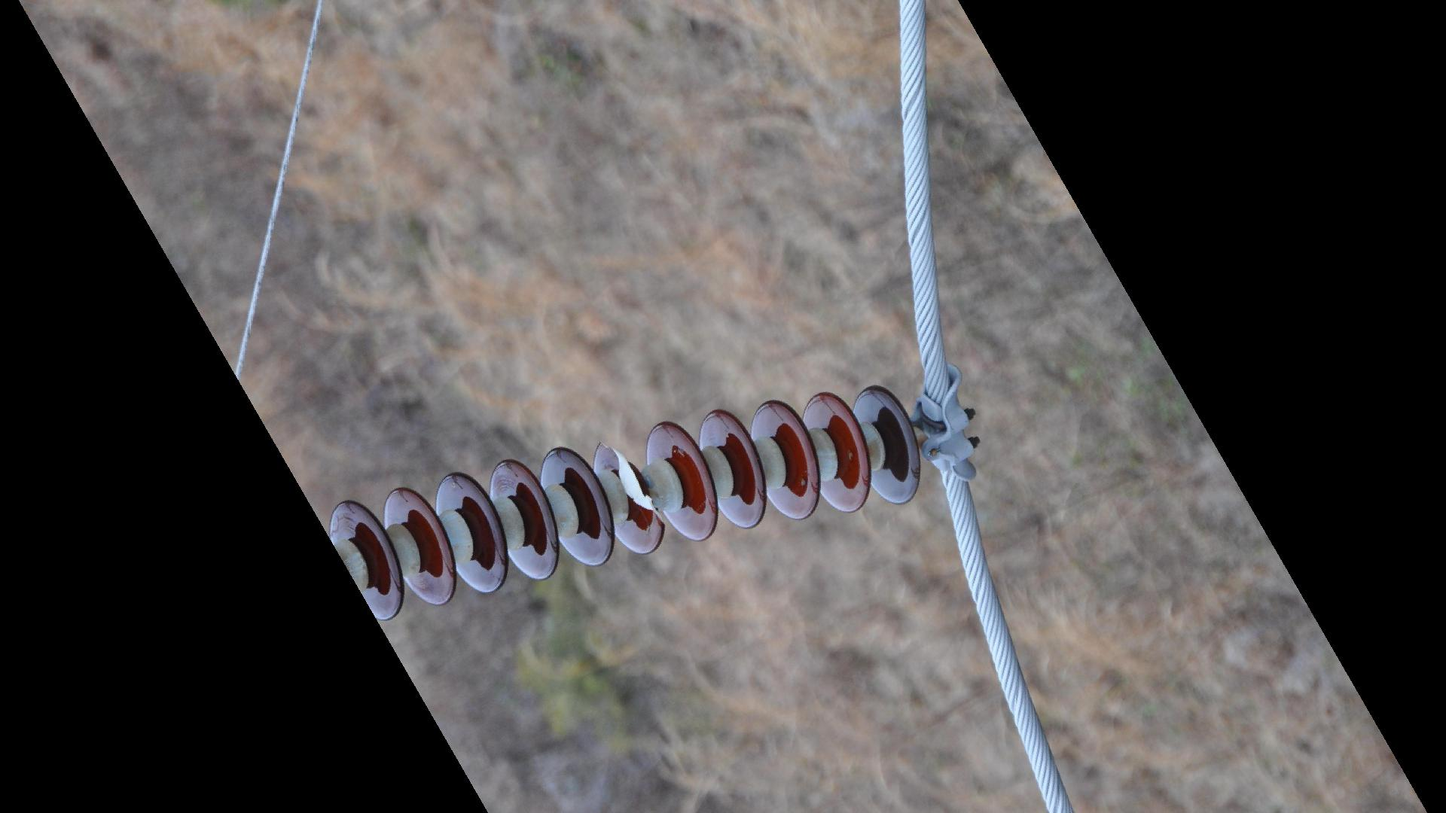insulator: (323, 378, 924, 623)
insulator_breakage: (592, 437, 669, 528)
